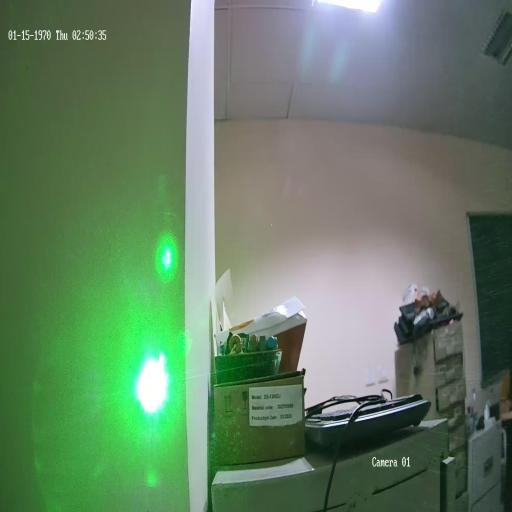laser: (122, 324, 183, 431)
